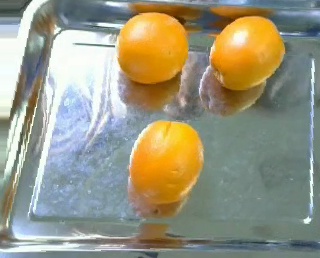Orange: (128, 120, 203, 203), (207, 14, 284, 89), (115, 12, 190, 83)
